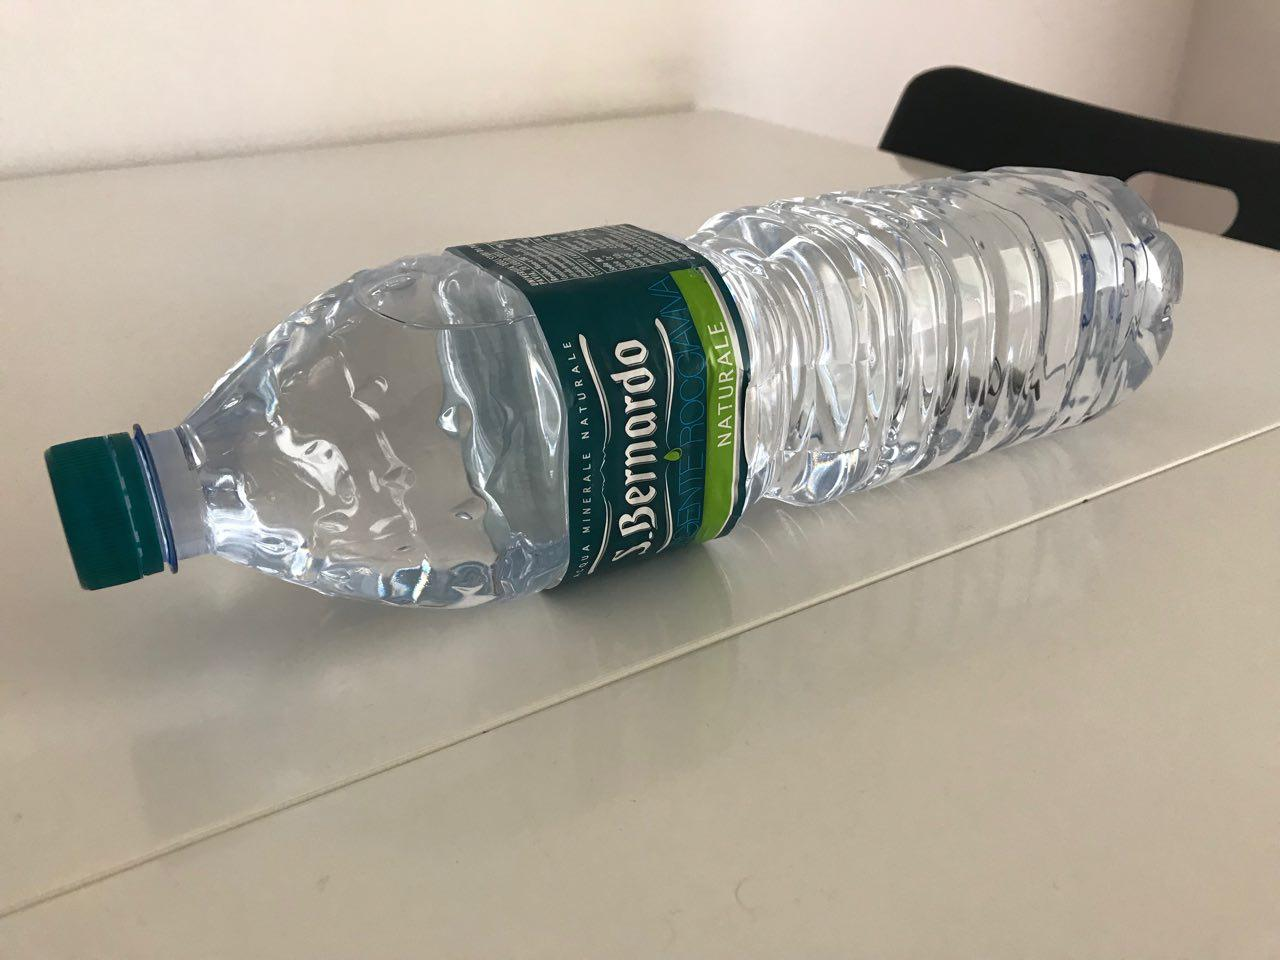san_bernardo: (41, 165, 1186, 614)
